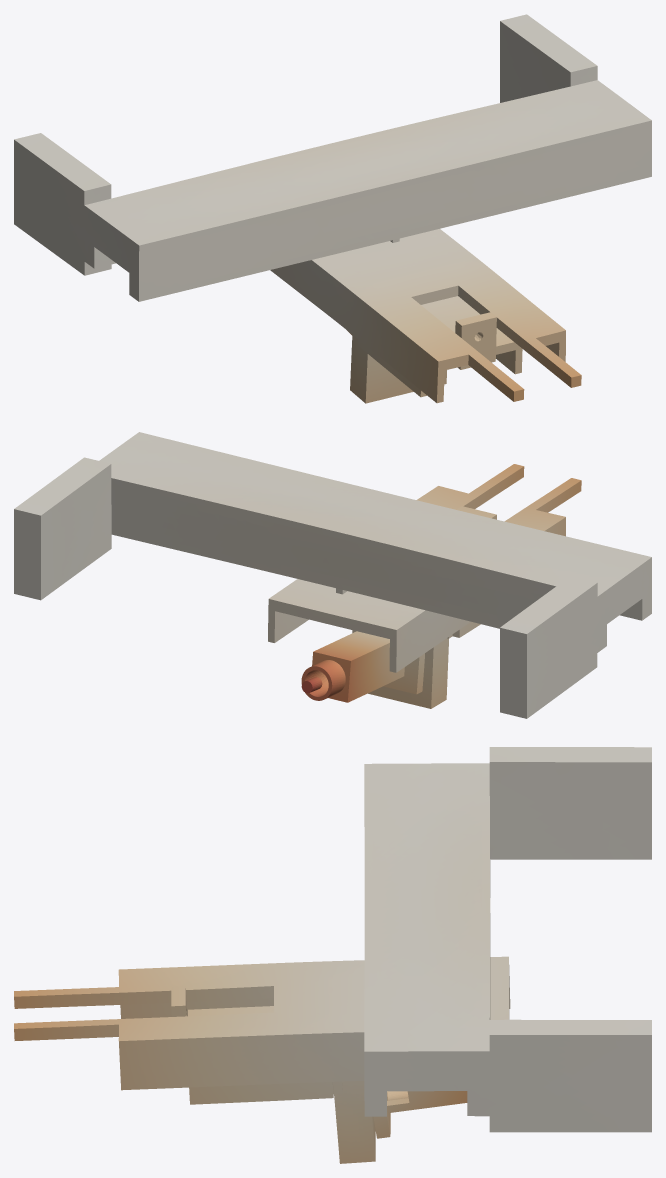
The model's file is gantry_h6_c10_Fy_u.glb.
The picture shows the model from 3 angles, top to bottom: view 1: azimuth 30°, elevation 25°; view 2: azimuth 150°, elevation 25°; view 3: azimuth 270°, elevation 25°; orthographic projection. The views are drawn at different scales.
Parts seen in each view (by area): view 1: geometry_0; view 2: geometry_0; view 3: geometry_0.
Part boxes in pixels (bbox=[...]): geometry_0: bbox=[14, 14, 651, 403]; geometry_0: bbox=[14, 432, 651, 718]; geometry_0: bbox=[14, 747, 651, 1163].
Size of the model in its own units: 761 by 308 by 712.
